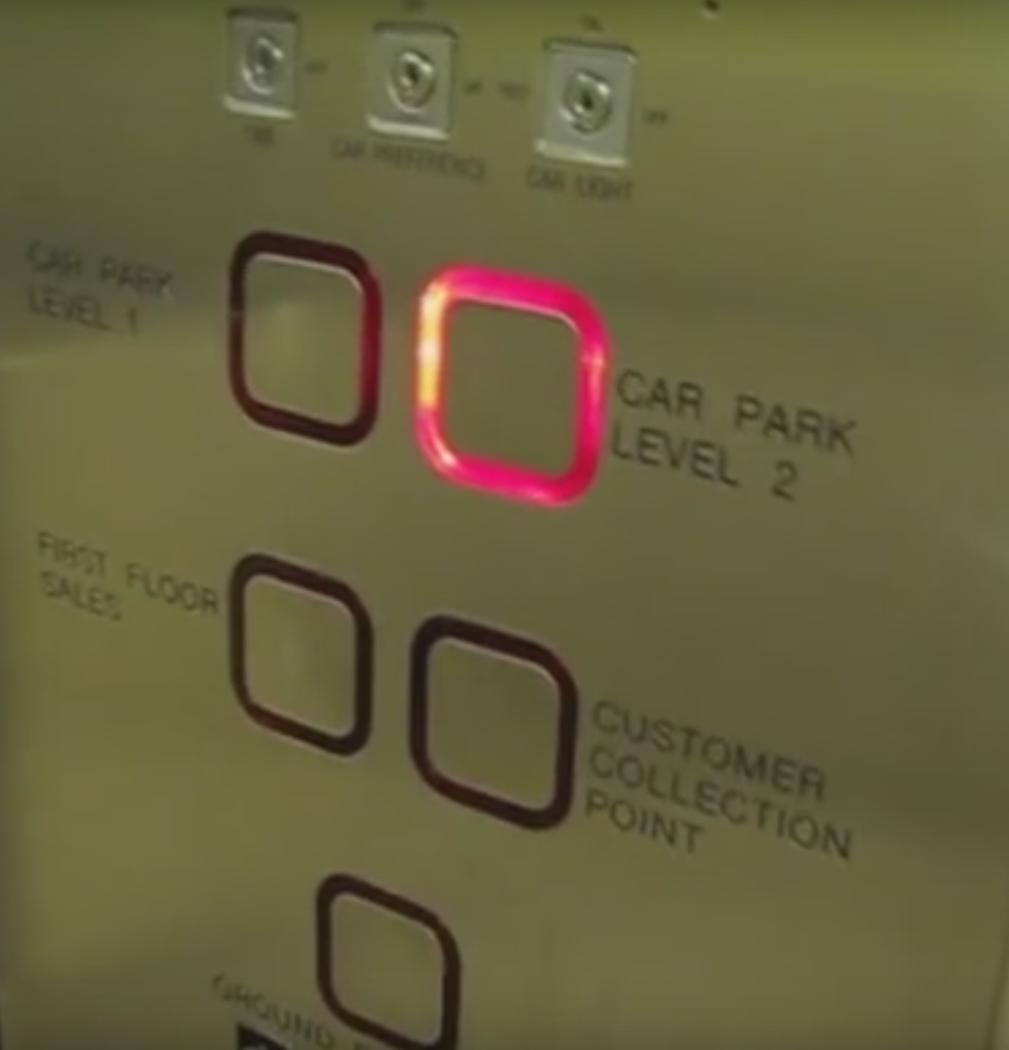empty: (410, 262, 616, 518), (405, 606, 582, 838), (219, 224, 385, 457), (224, 548, 379, 765), (310, 866, 466, 1050)
keyhole: (531, 30, 640, 177), (365, 19, 459, 143), (220, 4, 302, 123)
